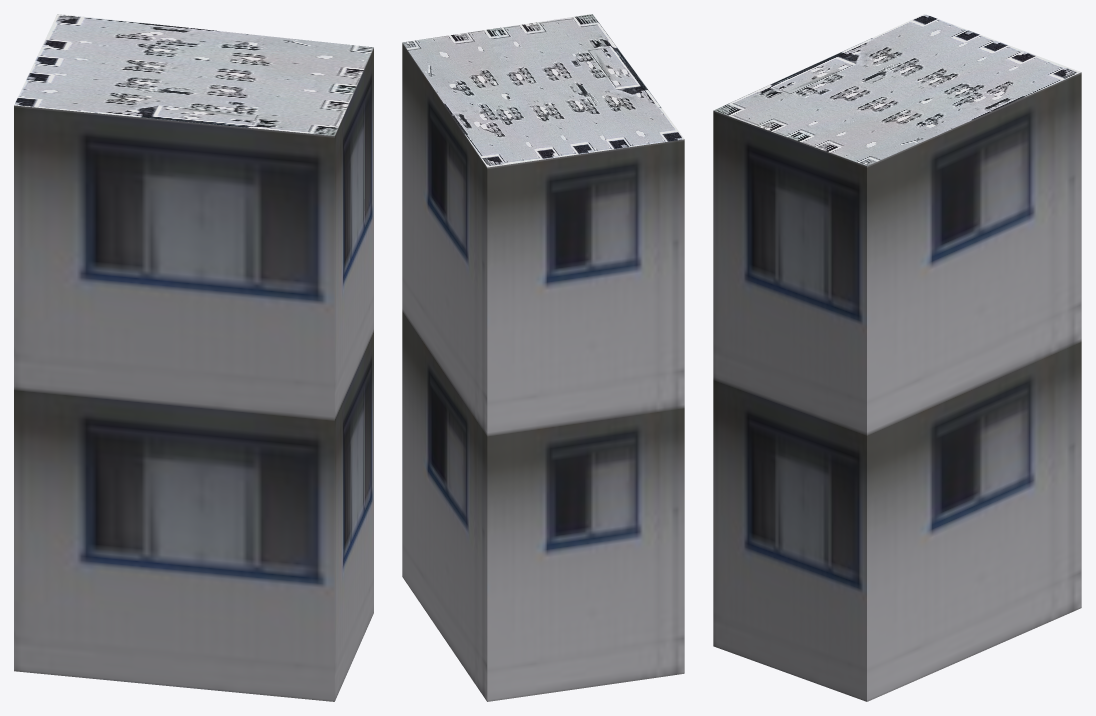
Rendered from ResTex__441.fbx.
3 views of the same model, side by side, from view 1: azimuth 30°, elevation 25°; view 2: azimuth 150°, elevation 25°; view 3: azimuth 270°, elevation 25° (orthographic). The views are drawn at different scales.
Parts seen in each view (by area): view 1: CityEngineMaterial_9_m, CityEngineMaterial_8_m; view 2: CityEngineMaterial_9_m, CityEngineMaterial_8_m; view 3: CityEngineMaterial_9_m, CityEngineMaterial_8_m.
Boxes of the visible parts, left/top/right/bottom form: CityEngineMaterial_9_m: left=14, top=48, right=373, bottom=701; CityEngineMaterial_8_m: left=14, top=14, right=373, bottom=135; CityEngineMaterial_9_m: left=402, top=43, right=684, bottom=701; CityEngineMaterial_8_m: left=402, top=14, right=684, bottom=167; CityEngineMaterial_9_m: left=713, top=72, right=1081, bottom=701; CityEngineMaterial_8_m: left=713, top=14, right=1081, bottom=165.
Bounding box in the file's own units: 3.66 × 6 × 3.74.
2 materials, 2 textured.
